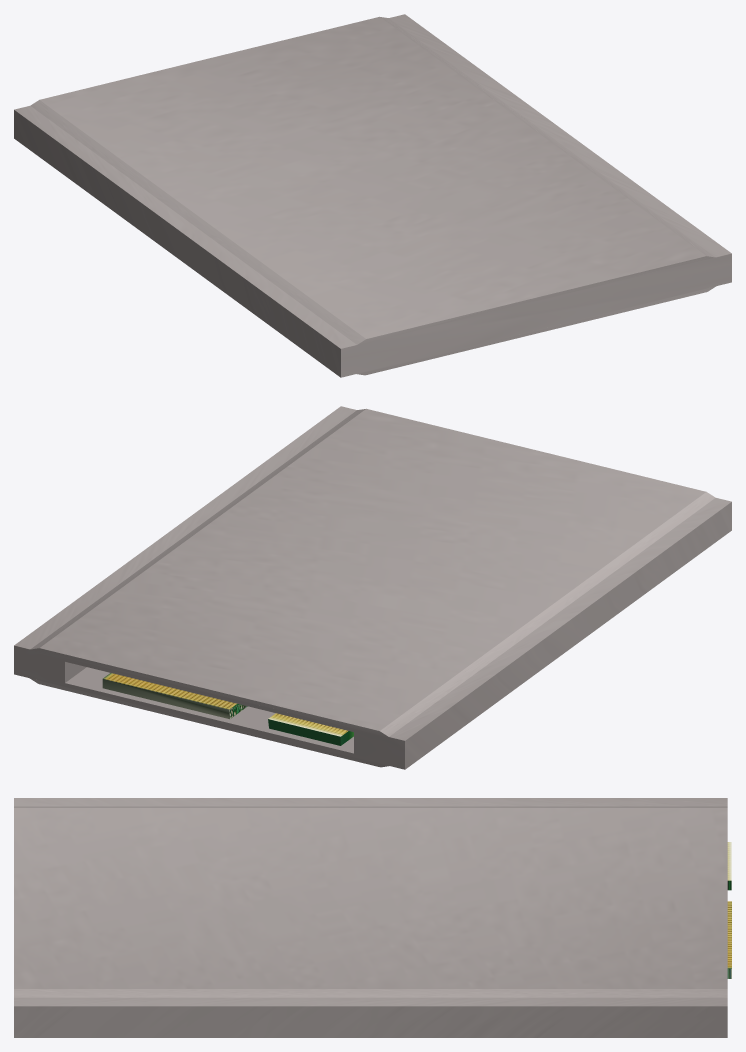
The model's file is ssd.obj.
3 renders of one model, top to bottom at view 1: azimuth 30°, elevation 25°; view 2: azimuth 150°, elevation 25°; view 3: azimuth 270°, elevation 25°, orthographic. The views are drawn at different scales.
Parts seen in each view (by area): view 1: Cube; view 2: Cube; view 3: Cube.
Part boxes in pixels (<box>): Cube: <box>14,14,731,377</box>; Cube: <box>14,406,731,769</box>; Cube: <box>14,798,731,1037</box>.
Size of the model in its own units: 4.25 by 0.375 by 6.19.
Materials: 2 (2 with a texture image).
